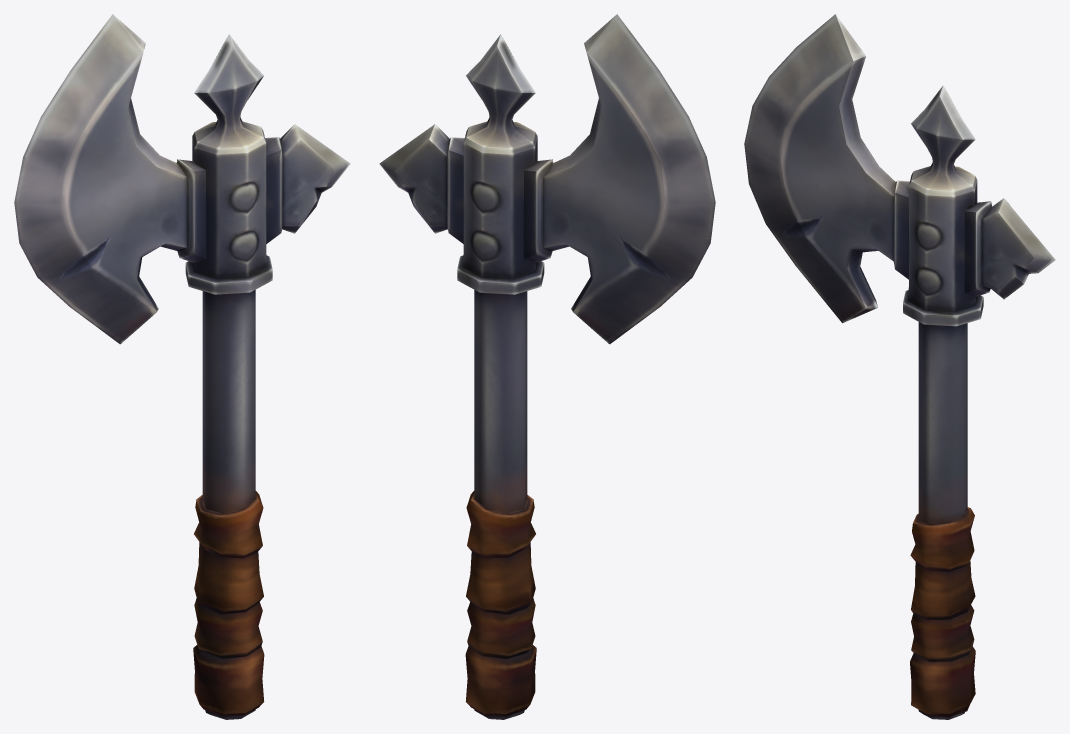
Rendered from 000_a_hand_axe.fbx.
The picture shows the model from 3 angles, left to right: view 1: azimuth 30°, elevation 25°; view 2: azimuth 150°, elevation 25°; view 3: azimuth 330°, elevation 25°; orthographic projection. The views are drawn at different scales.
Visible parts, largest first — view 1: 000_a_hand_axe; view 2: 000_a_hand_axe; view 3: 000_a_hand_axe.
Part boxes in pixels (bbox=[...]): 000_a_hand_axe: bbox=[14, 14, 350, 719]; 000_a_hand_axe: bbox=[379, 14, 715, 719]; 000_a_hand_axe: bbox=[744, 14, 1055, 719].
Bounding box in the file's own units: 31.21 × 64.26 × 6.84.
